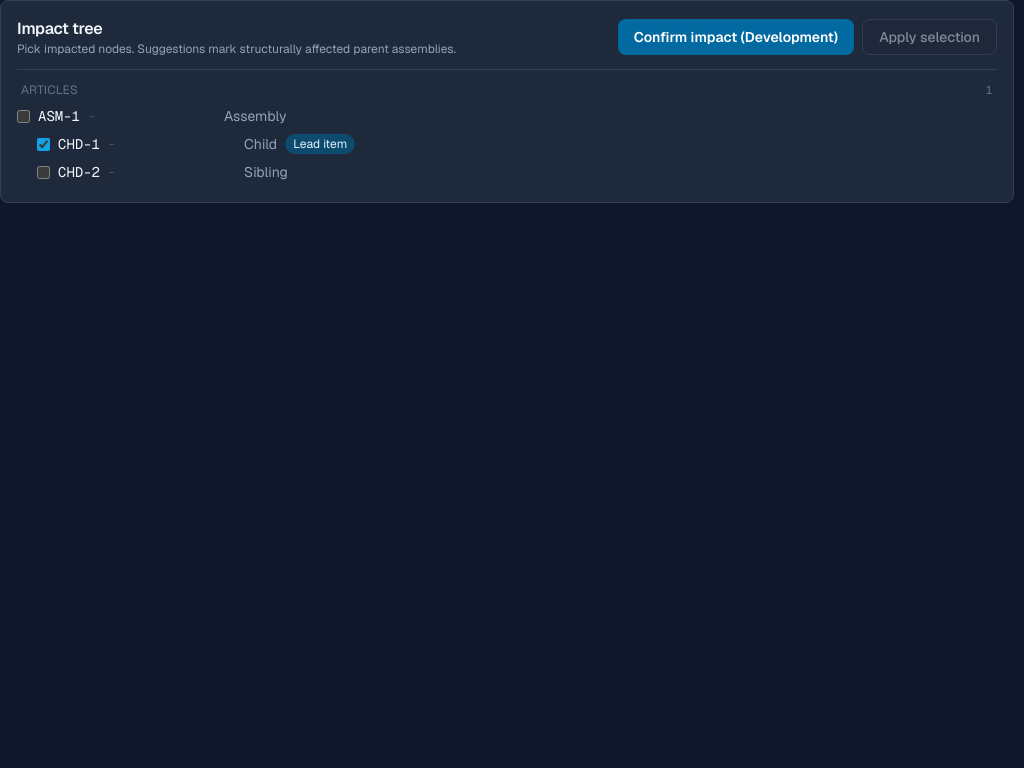
Test: ImpactTree › says the review asks the serving departments when locking an engineering review
Expected: the text "Child" is shown, x1=244 y1=134 x2=277 y2=154
What coordinates should you click on to do the following:
click the button "Confirm impact (Development)"
I would click on:
 (736, 37)
Its box is x1=618 y1=19 x2=854 y2=55.
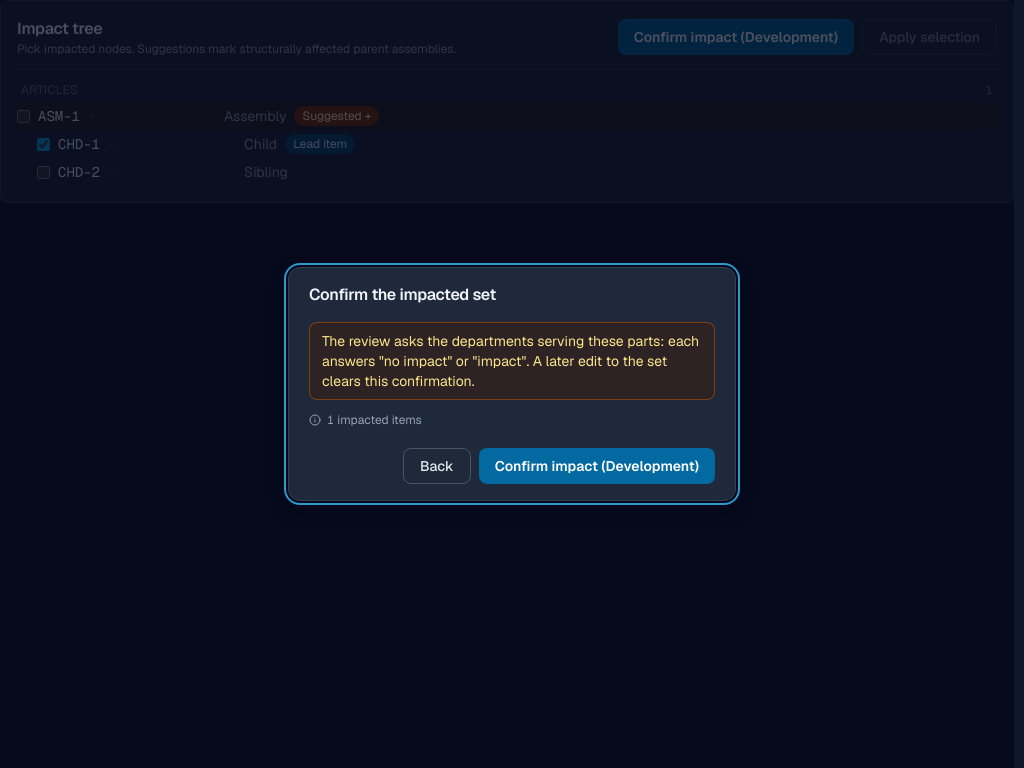
Expected: the message with test id "confirm-consequence" shows "The review asks the departments serving these parts", x1=322 y1=332 x2=699 y2=390
